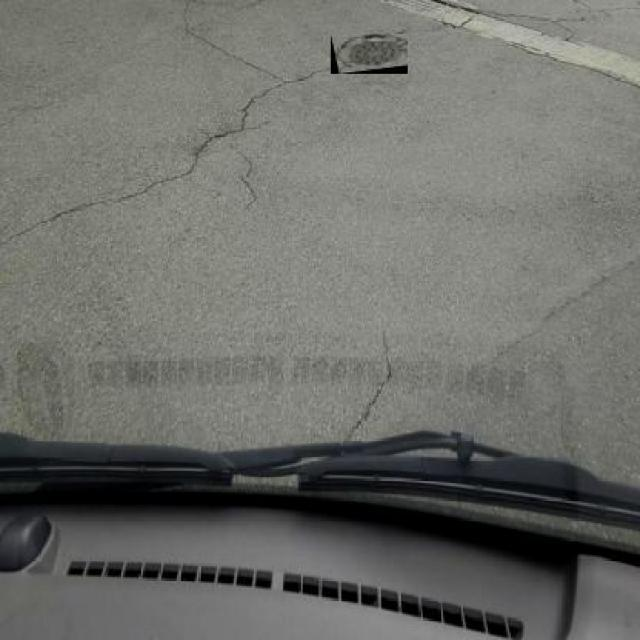Manhole: (330, 34, 408, 74)
